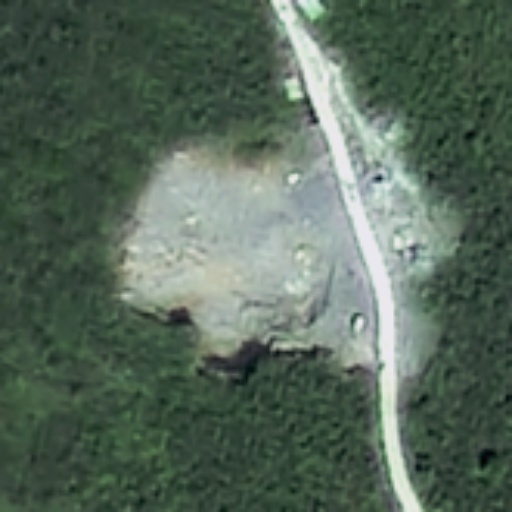landslide: (120, 144, 332, 368)
